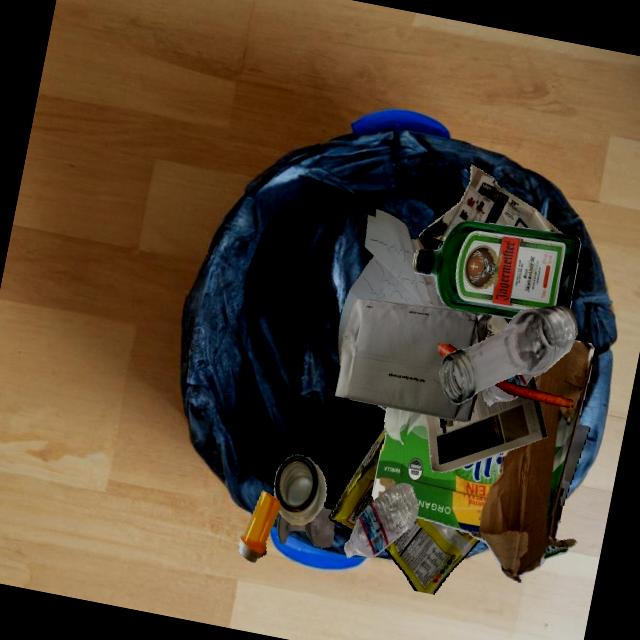biowaste: (494, 380, 573, 407)
cardboard: (372, 340, 594, 583), (436, 248, 440, 250)
glass: (413, 221, 581, 319), (439, 306, 578, 404), (274, 454, 327, 526), (561, 423, 590, 509), (277, 507, 334, 548), (420, 234, 444, 250)
paper: (335, 298, 492, 422), (338, 206, 450, 366), (462, 221, 581, 316), (418, 165, 563, 242), (425, 388, 547, 472), (559, 519, 560, 522)
plastic: (344, 483, 419, 558), (239, 490, 280, 562), (483, 384, 518, 407), (505, 374, 533, 387)
trash: (384, 517, 480, 595), (329, 427, 385, 532)
